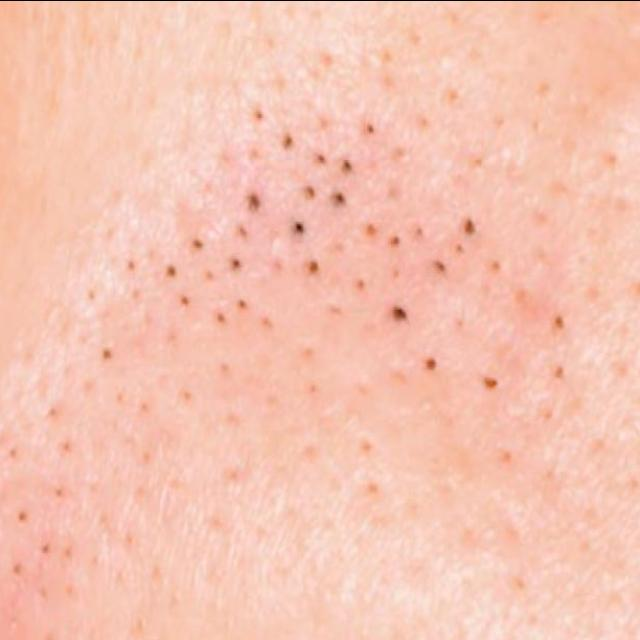blackhead: (73, 38, 538, 402)
